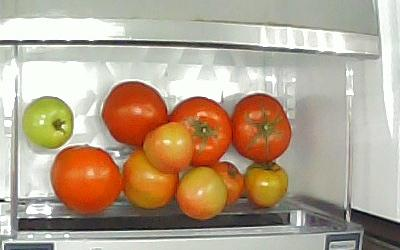tomato: (51, 145, 122, 214), (102, 81, 167, 148), (169, 96, 232, 165), (232, 93, 293, 163), (123, 149, 178, 210), (22, 96, 74, 150), (177, 166, 227, 221), (142, 121, 193, 173), (244, 160, 289, 209), (209, 162, 244, 206)
